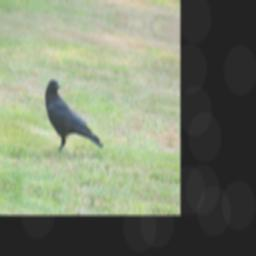Crow: (40, 76, 110, 160)
